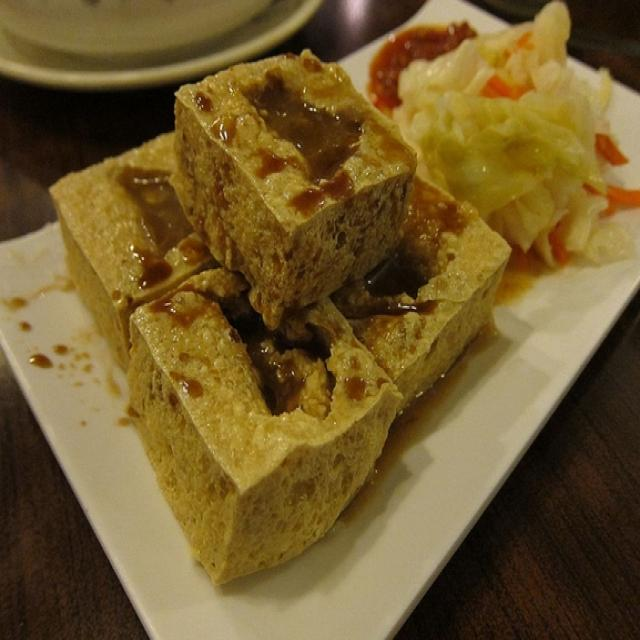豆腐料理: (13, 14, 616, 608)
